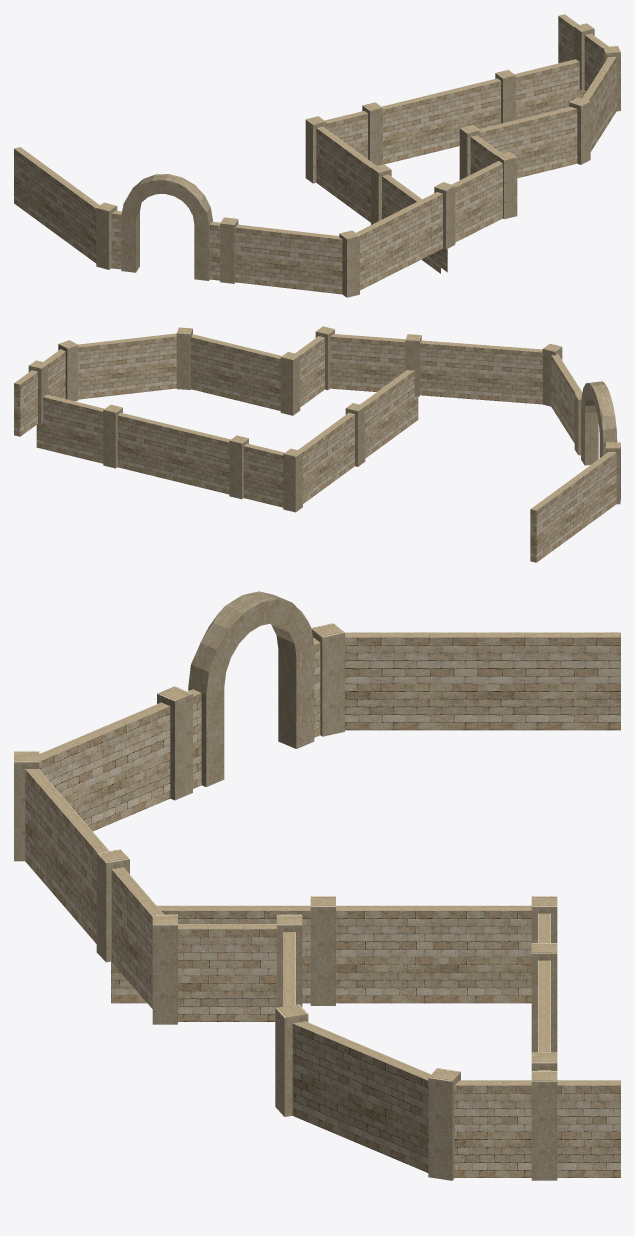
File: poi_nboo_corral_half_64x64_s01_l0.fbx
The picture shows the model from 3 angles, top to bottom: view 1: azimuth 30°, elevation 25°; view 2: azimuth 150°, elevation 25°; view 3: azimuth 270°, elevation 25°; orthographic projection. The views are drawn at different scales.
Visible parts, largest first — view 1: mesh_node; view 2: mesh_node; view 3: mesh_node.
Boxes of the visible parts, x1,y1,x2,y2 form: mesh_node: (14,14,620,297); mesh_node: (14,326,620,562); mesh_node: (14,591,620,1180).
Bounding box in the file's own units: 42.57 × 9 × 23.81.
